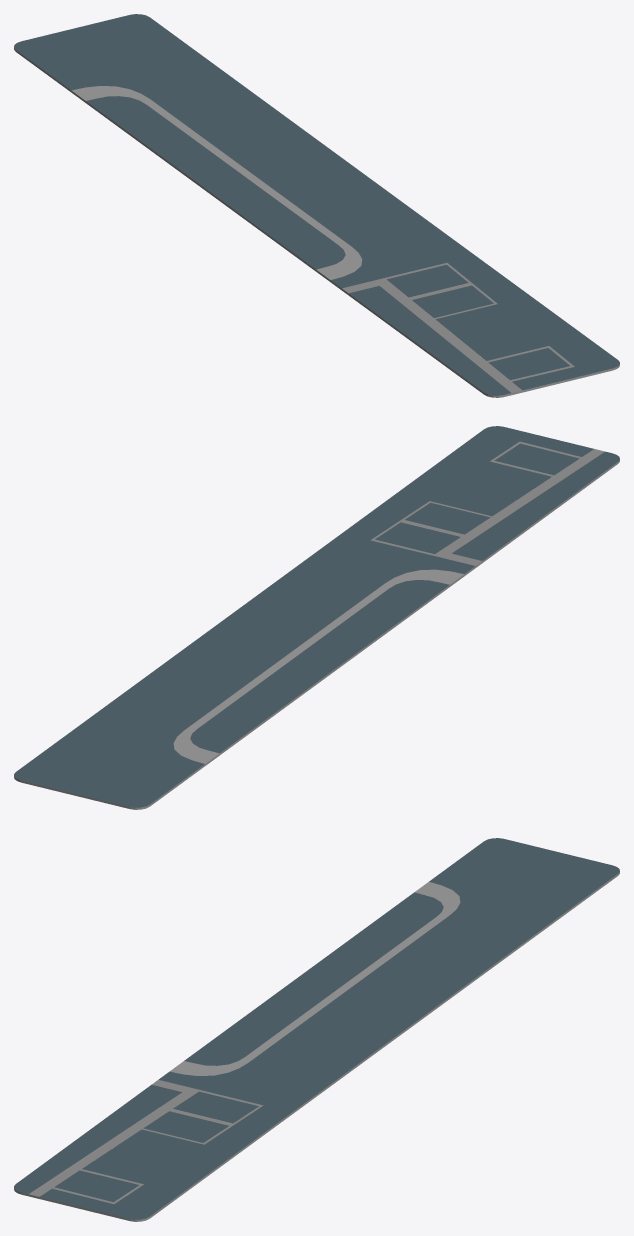
The picture shows the model from 3 angles, top to bottom: view 1: azimuth 30°, elevation 25°; view 2: azimuth 150°, elevation 25°; view 3: azimuth 330°, elevation 25°; orthographic projection.
Visible parts, largest first — view 1: world; view 2: world; view 3: world.
Part boxes in pixels (bbox=[...]): world: bbox=[14, 14, 619, 397]; world: bbox=[14, 426, 619, 809]; world: bbox=[14, 838, 619, 1221].
Bounding box in the file's own units: 0.0064 × 0.0001 × 0.04.
